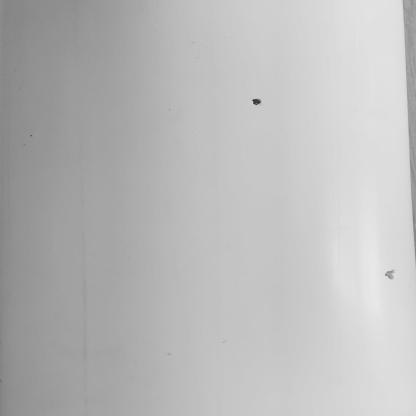kongdong: (374, 265, 406, 290), (252, 93, 268, 114)
